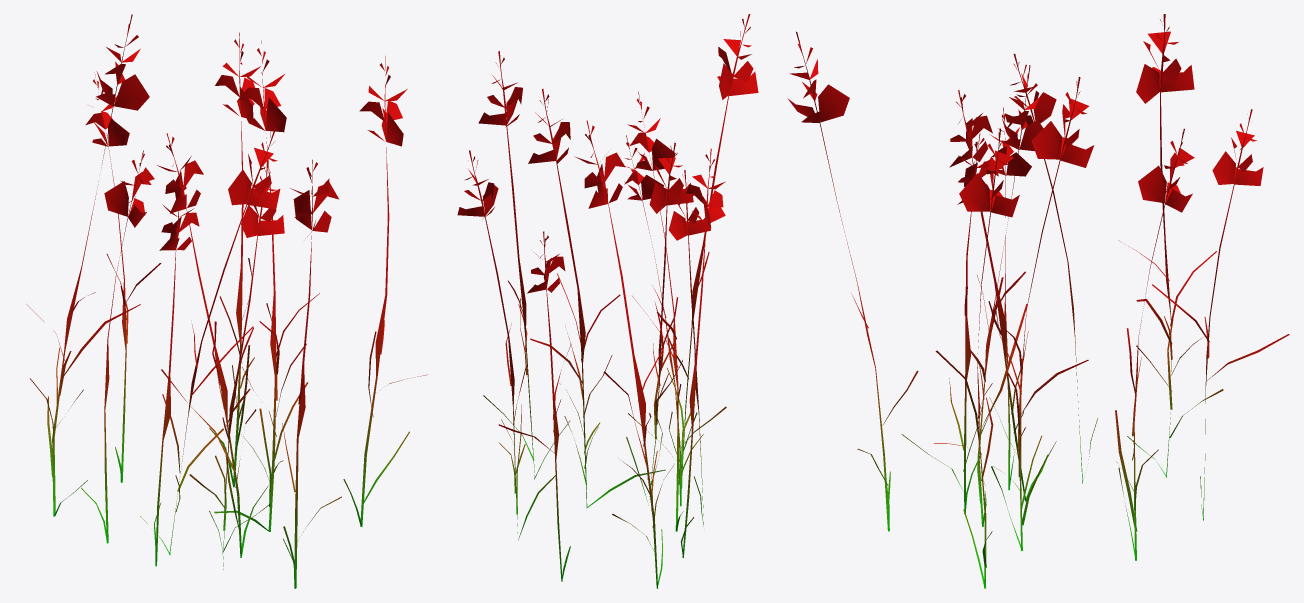
File: Tundra Grass_LOD5_Var8_wk2oaeyqx.fbx
The picture shows the model from 3 angles, left to right: view 1: azimuth 30°, elevation 25°; view 2: azimuth 150°, elevation 25°; view 3: azimuth 270°, elevation 25°; orthographic projection. The views are drawn at different scales.
Parts seen in each view (by area): view 1: _knxi_Var8_LOD5; view 2: _knxi_Var8_LOD5; view 3: _knxi_Var8_LOD5.
Boxes of the visible parts, x1,y1,x2,y2 form: _knxi_Var8_LOD5: (26,14,427,588); _knxi_Var8_LOD5: (457,14,758,588); _knxi_Var8_LOD5: (787,14,1289,588).
Bounding box in the file's own units: 45.11 × 71.12 × 64.53.
